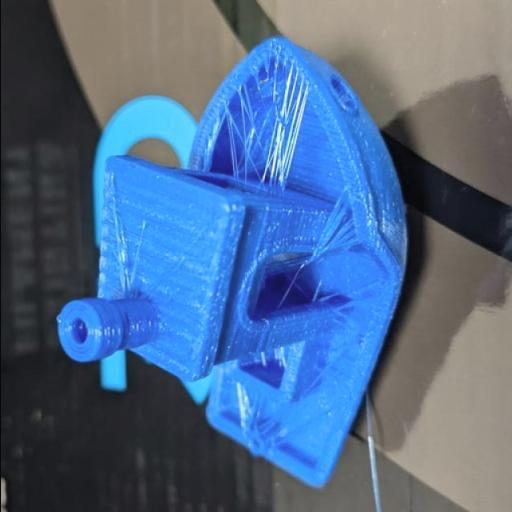stringing: (268, 77, 306, 181), (224, 98, 266, 160), (320, 206, 354, 252)
